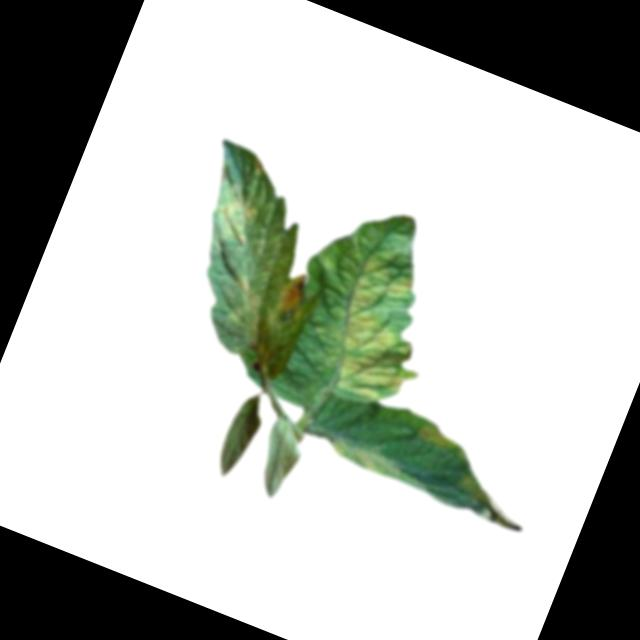Leaf_Mold: (296, 229, 459, 420), (325, 430, 433, 495), (446, 468, 539, 538), (214, 268, 290, 353), (206, 184, 266, 251), (409, 415, 470, 461), (269, 270, 314, 331)
